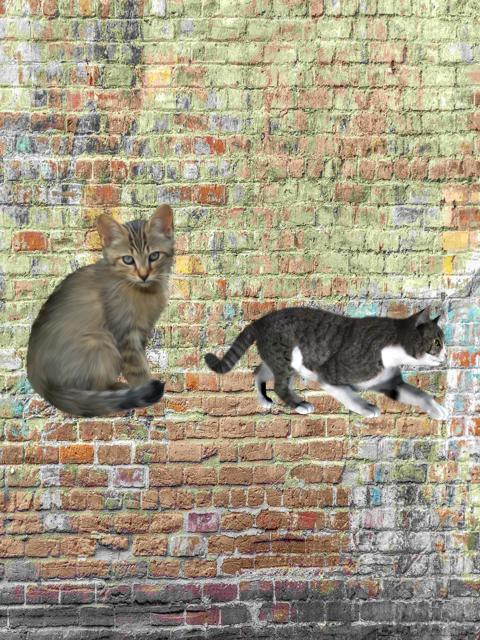cat: (202, 194, 459, 456), (22, 203, 189, 419)
